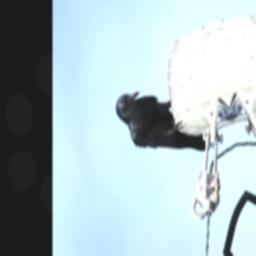Crow: (113, 69, 212, 179)
